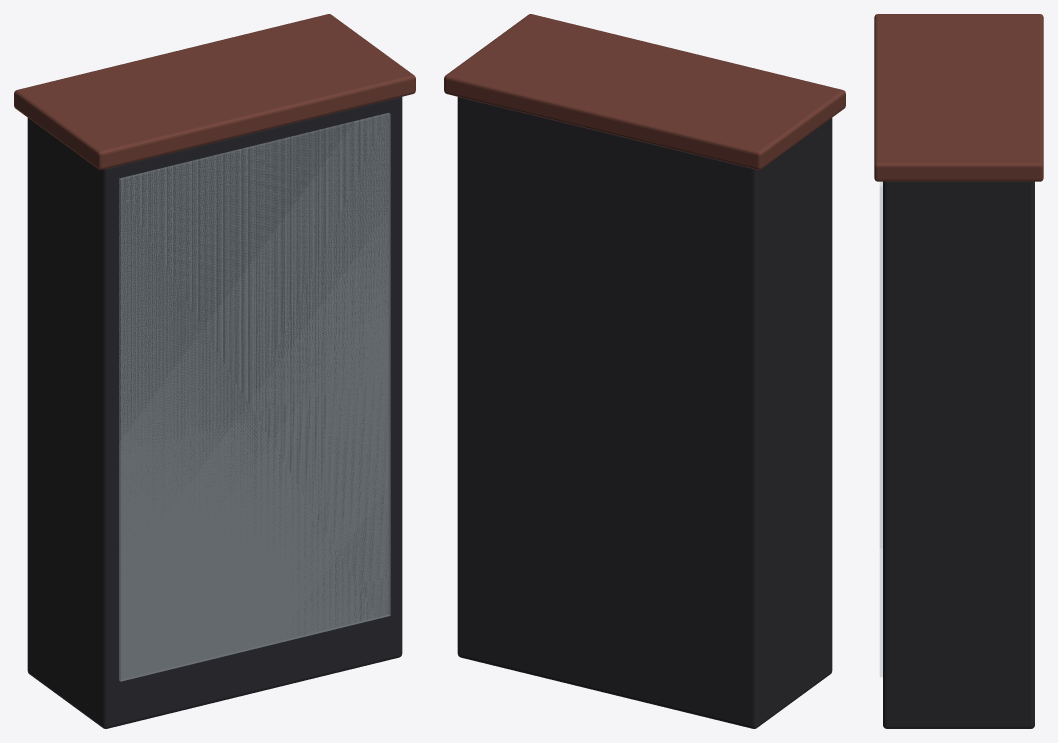
The model's file is cabinet_glass_display.glb.
The picture shows the model from 3 angles, left to right: view 1: azimuth 30°, elevation 25°; view 2: azimuth 150°, elevation 25°; view 3: azimuth 270°, elevation 25°; orthographic projection. The views are drawn at different scales.
Parts seen in each view (by area): view 1: GD_cabinet_glass_display__m0, GD_cabinet_glass_display__m5, GD_cabinet_glass_display__m1; view 2: GD_cabinet_glass_display__m0, GD_cabinet_glass_display__m1; view 3: GD_cabinet_glass_display__m0, GD_cabinet_glass_display__m1, GD_cabinet_glass_display__m5.
Part boxes in pixels (x1,y1,x2,y2): GD_cabinet_glass_display__m0: (27,97,402,728); GD_cabinet_glass_display__m5: (119,113,390,681); GD_cabinet_glass_display__m1: (14,14,415,169); GD_cabinet_glass_display__m0: (457,97,832,728); GD_cabinet_glass_display__m1: (444,14,845,169); GD_cabinet_glass_display__m0: (883,181,1034,728); GD_cabinet_glass_display__m1: (874,14,1043,181); GD_cabinet_glass_display__m5: (879,181,882,677).
Bounding box in the file's own units: 1.06 × 1.86 × 0.5.
